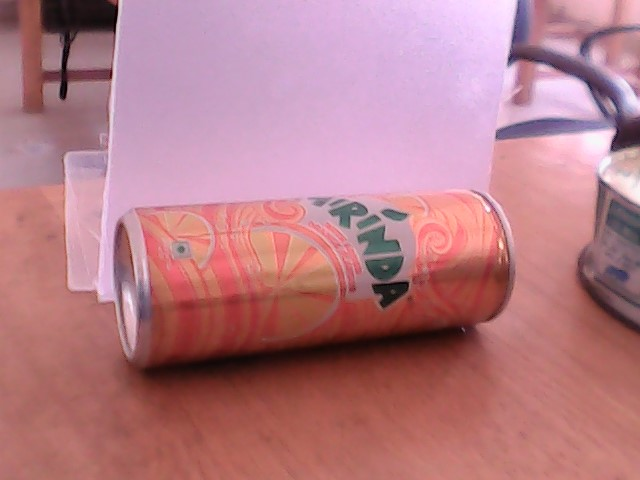Metal: (88, 187, 510, 368)
